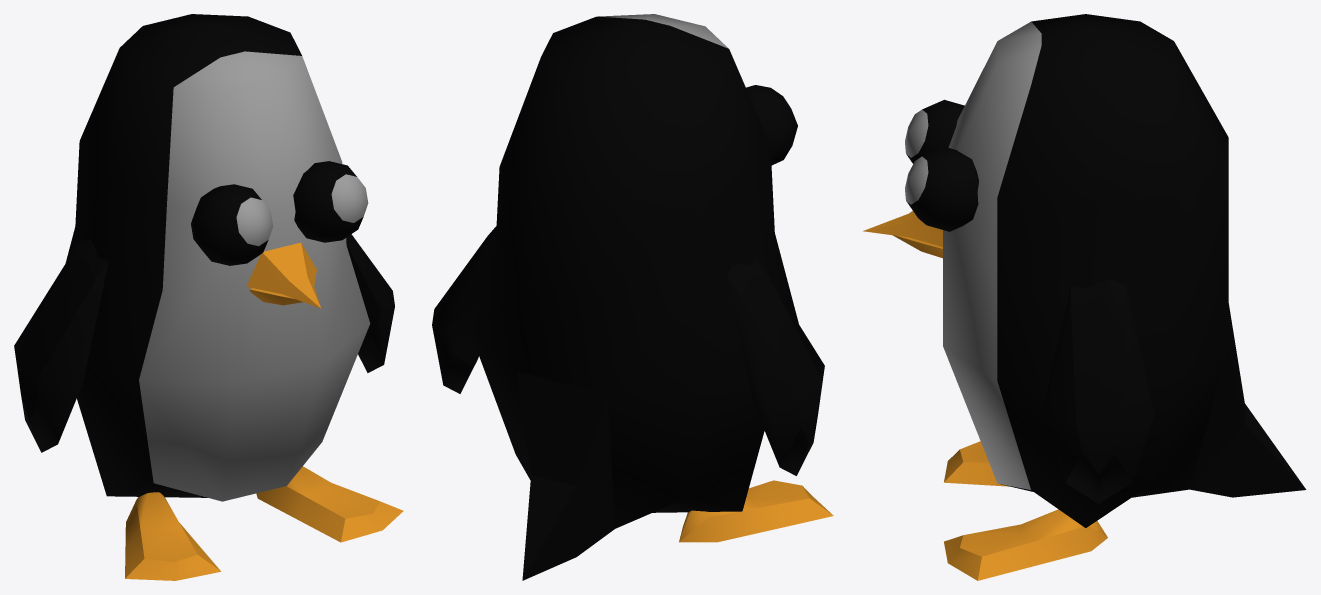
File: pinguin.fbx
3 views of the same model, side by side, from view 1: azimuth 30°, elevation 25°; view 2: azimuth 150°, elevation 25°; view 3: azimuth 270°, elevation 25° (orthographic). The views are drawn at different scales.
Visible parts, largest first — view 1: Sphère001, Boîte006, Boîte003, Boîte004, Sphère002, Sphère003, Boîte005, Boîte001; view 2: Sphère001, Boîte006, Boîte003, Boîte005, Sphère002; view 3: Sphère001, Boîte005, Boîte004, Sphère003, Sphère002, Boîte003, Boîte001.
Boxes of the visible parts, box(x1,y1,x2,y2) form: Sphère001: box(65, 14, 370, 501); Boîte006: box(14, 240, 108, 452); Boîte003: box(125, 492, 220, 580); Boîte004: box(256, 466, 403, 542); Sphère002: box(191, 184, 273, 265); Sphère003: box(293, 161, 368, 242); Boîte005: box(346, 234, 394, 372); Boîte001: box(246, 242, 321, 308); Sphère001: box(470, 14, 798, 580); Boîte006: box(727, 258, 824, 475); Boîte003: box(679, 480, 833, 542); Boîte005: box(432, 226, 496, 393); Sphère002: box(746, 85, 797, 165); Sphère001: box(943, 14, 1306, 527); Boîte005: box(1043, 279, 1154, 503); Boîte004: box(944, 509, 1107, 580); Sphère003: box(905, 146, 978, 231); Sphère002: box(905, 99, 964, 163); Boîte003: box(944, 441, 1009, 486); Boîte001: box(863, 211, 942, 246).
Size of the model in its own units: 29.84 by 38.66 by 32.
